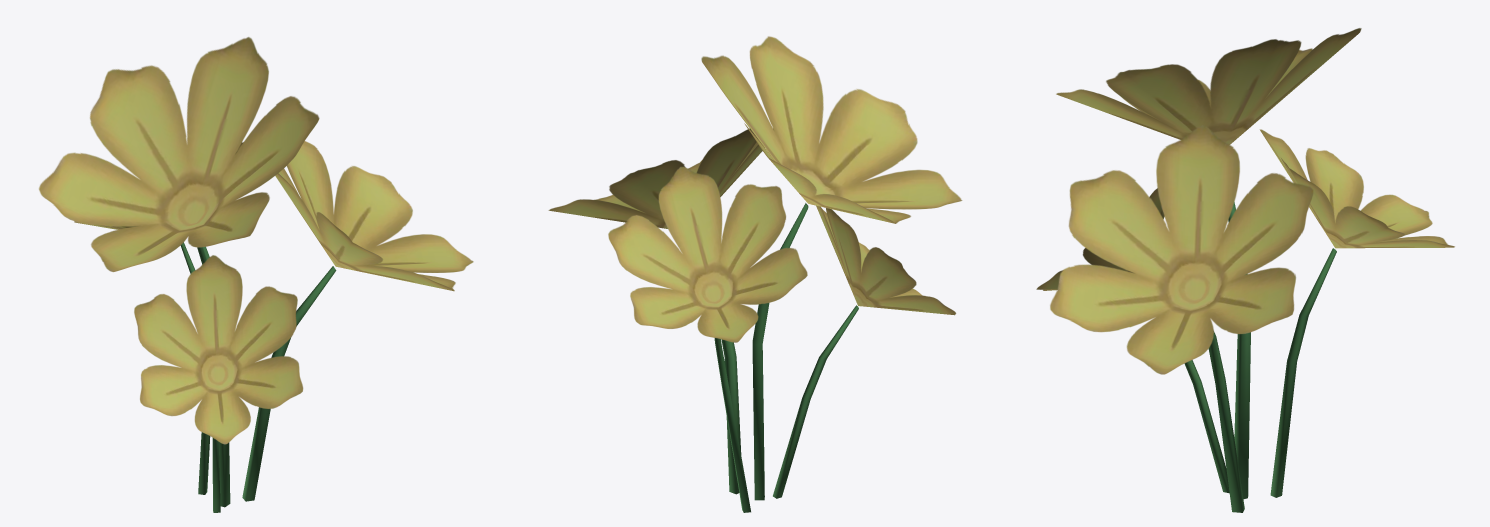
The model's file is Flower_2_Clump.glb.
The picture shows the model from 3 angles, left to right: view 1: azimuth 30°, elevation 25°; view 2: azimuth 150°, elevation 25°; view 3: azimuth 270°, elevation 25°; orthographic projection. The views are drawn at different scales.
Visible parts, largest first — view 1: Flower_2_Clump; view 2: Flower_2_Clump; view 3: Flower_2_Clump.
Part boxes in pixels (x1,y1,x2,y2): Flower_2_Clump: [39, 37, 473, 512]; Flower_2_Clump: [548, 36, 962, 512]; Flower_2_Clump: [1036, 28, 1454, 512].
Size of the model in its own units: 0.426 by 0.4508 by 0.3735.
1 material, 1 textured.
